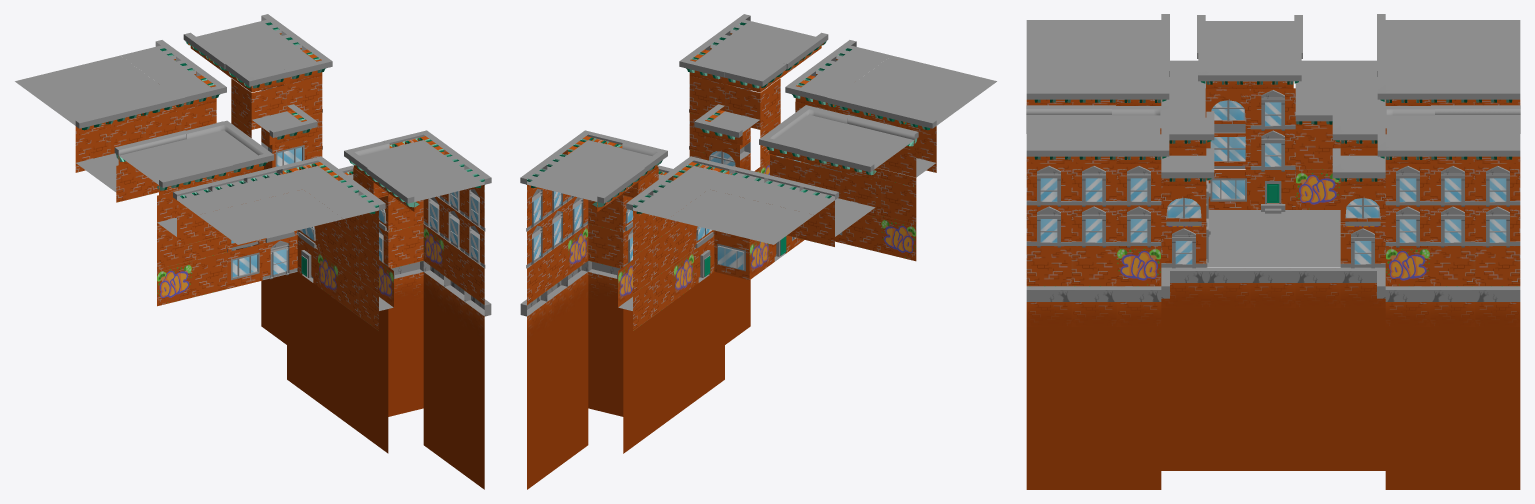
File: kamer_002.fbx
The picture shows the model from 3 angles, left to right: view 1: azimuth 30°, elevation 25°; view 2: azimuth 150°, elevation 25°; view 3: azimuth 270°, elevation 25°; orthographic projection. The views are drawn at different scales.
Visible parts, largest first — view 1: Plane.1049, Plane.1060, Plane.1063, Plane.1134, Plane.1050, Plane.1175, Plane.1131, Plane.1186, Plane.1166, Plane.1239, Plane.1244, Plane.1102 (+101 smaller); view 2: Plane.1040, Plane.1183, Plane.1186, Plane.1175, Plane.1232, Plane.1050, Plane.1063, Plane.1035, Plane.1147, Plane.1155, Plane.1105, Plane.1102 (+99 smaller); view 3: Plane.1074, Plane.1111, Plane.1197, Plane.1216, Plane.1072, Plane.1195, Plane.1141, Plane.1142, Plane.1143, Plane.1144, Plane.1145, Plane.1146 (+137 smaller).
Part boxes in pixels (x1,y1,x2,y2): Plane.1049: [146, 101, 216, 139]; Plane.1060: [252, 104, 317, 145]; Plane.1063: [267, 44, 332, 84]; Plane.1134: [209, 137, 274, 177]; Plane.1050: [161, 69, 226, 109]; Plane.1175: [276, 156, 344, 189]; Plane.1131: [225, 59, 287, 92]; Plane.1186: [382, 130, 450, 163]; Plane.1166: [192, 252, 227, 297]; Plane.1239: [388, 334, 423, 379]; Plane.1244: [388, 371, 423, 416]; Plane.1102: [157, 261, 192, 306]; Plane.1040: [770, 155, 840, 198]; Plane.1183: [694, 104, 759, 145]; Plane.1186: [679, 44, 744, 84]; Plane.1175: [785, 69, 850, 109]; Plane.1232: [724, 59, 786, 92]; Plane.1050: [667, 156, 735, 189]; Plane.1063: [561, 130, 629, 163]; Plane.1035: [714, 235, 749, 280]; Plane.1147: [588, 334, 623, 379]; Plane.1155: [588, 371, 623, 416]; Plane.1105: [881, 179, 916, 224]; Plane.1102: [881, 216, 916, 261]; Plane.1074: [1430, 164, 1475, 206]; Plane.1111: [1475, 164, 1520, 206]; Plane.1197: [1071, 164, 1116, 206]; Plane.1216: [1026, 164, 1071, 206]; Plane.1072: [1385, 164, 1430, 206]; Plane.1195: [1116, 164, 1161, 206]; Plane.1141: [1430, 367, 1475, 408]; Plane.1142: [1475, 367, 1520, 408]; Plane.1143: [1340, 348, 1385, 389]; Plane.1144: [1295, 348, 1340, 389]; Plane.1145: [1250, 348, 1295, 389]; Plane.1146: [1205, 348, 1250, 389].
Bounding box in the file's own units: 719 × 842 × 1101.
